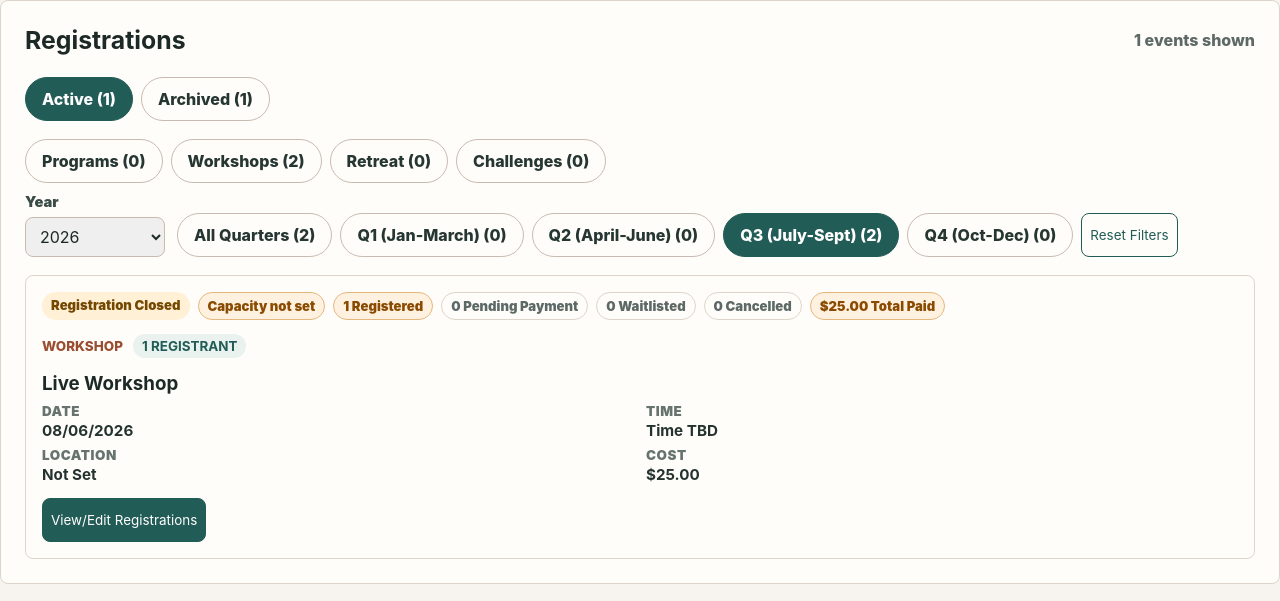
Scenario: Registrations card archive filter › shows the archived event once the Archived filter is selected
This screenshot has width=1280, height=601.
Click the button "Archived (1)" at x=206, y=99, box [141,77,270,121]
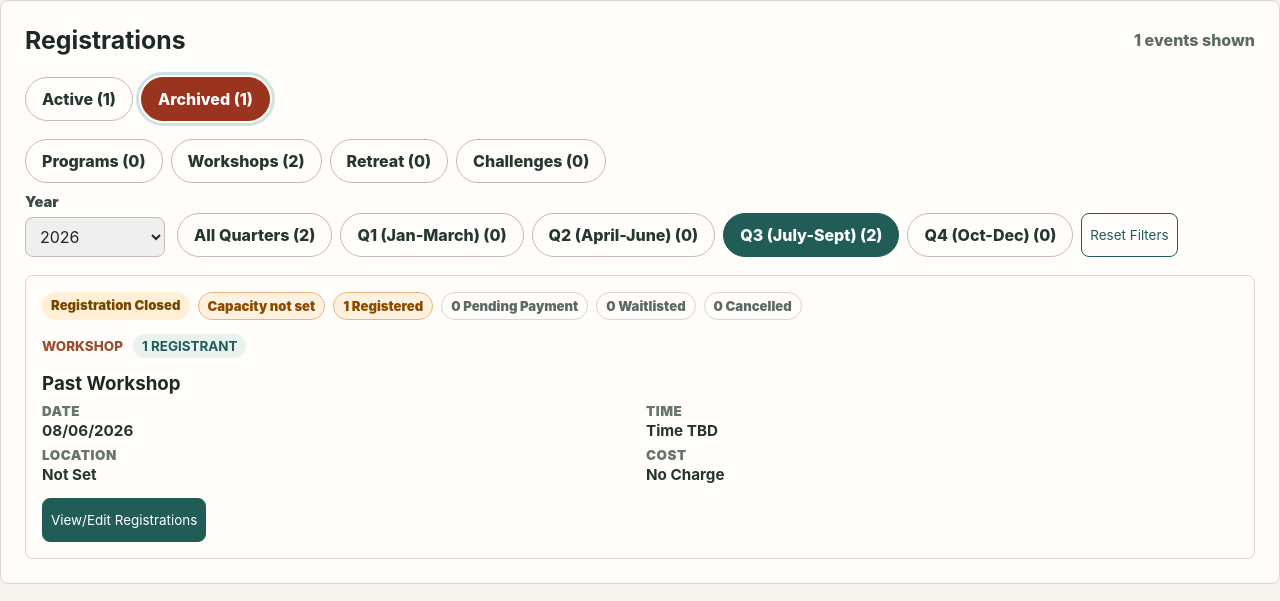
Expected: the heading "Past Workshop" is shown, [42,372,181,395]
Expected: the heading "Live Workshop" is gone
